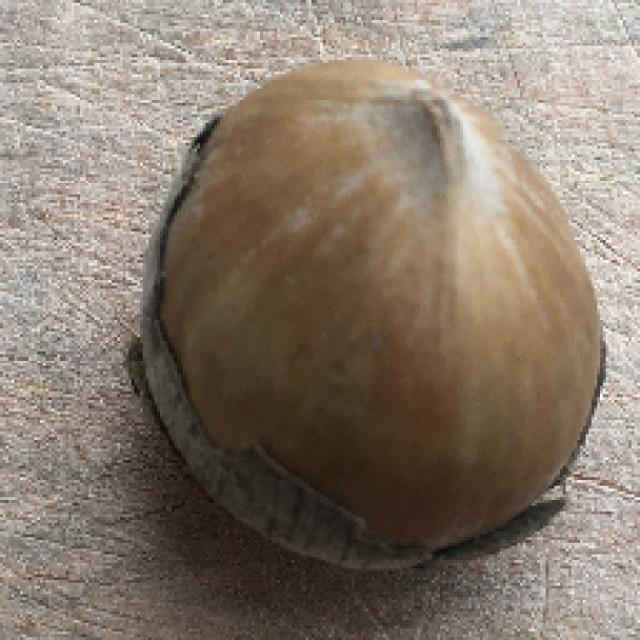DamagedHazelnut: (137, 57, 605, 568)
